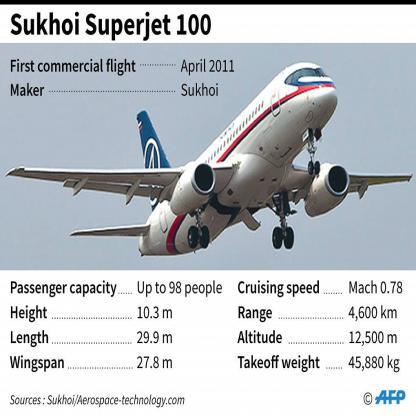CIV_Plane: (1, 56, 413, 271)
